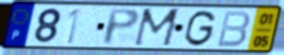1: (67, 8, 82, 44)
8: (32, 7, 63, 45)
B: (215, 9, 252, 48)
G: (182, 9, 218, 48)
M: (131, 8, 183, 49)
P: (101, 8, 142, 47)
